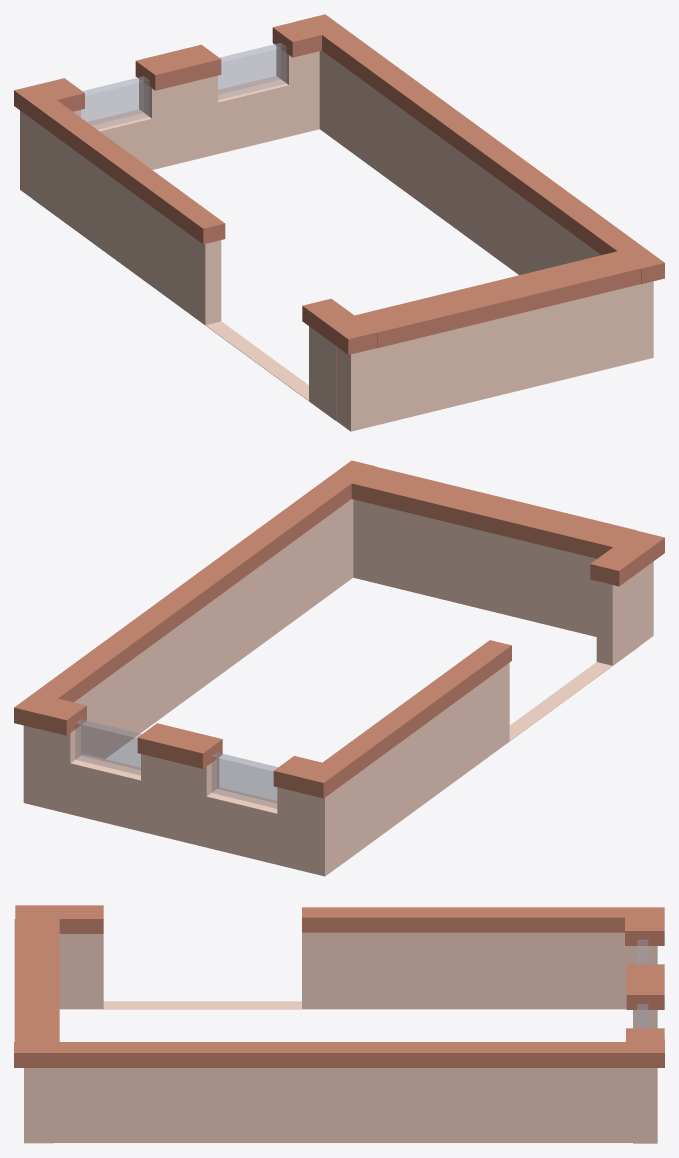
Rendered from M6_BO_Muur_5_UV_JasmijnDouwes.fbx.
The picture shows the model from 3 angles, top to bottom: view 1: azimuth 30°, elevation 25°; view 2: azimuth 150°, elevation 25°; view 3: azimuth 270°, elevation 25°; orthographic projection. The views are drawn at different scales.
Visible parts, largest first — view 1: Muur_Kleur; view 2: Muur_Kleur; view 3: Muur_Kleur.
Part boxes in pixels (x1,y1,x2,y2): Muur_Kleur: [14, 14, 664, 431]; Muur_Kleur: [14, 460, 664, 876]; Muur_Kleur: [14, 905, 664, 1143].
Bounding box in the file's own units: 889 × 262 × 1656.
